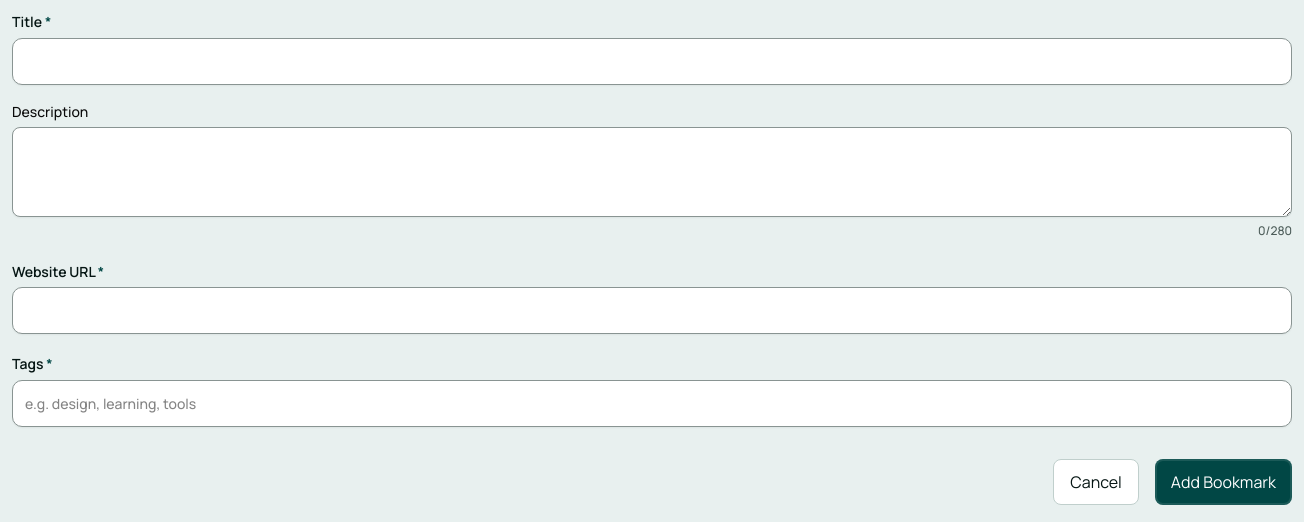
Test: BookmarkForm › formats the tags field by inserting a comma when pressing space
The width and height of the screenshot is (1304, 522).
Type "design " into the field labelled "Tags *".
click(652, 403); type("design ")  # box [12,380,1292,427]
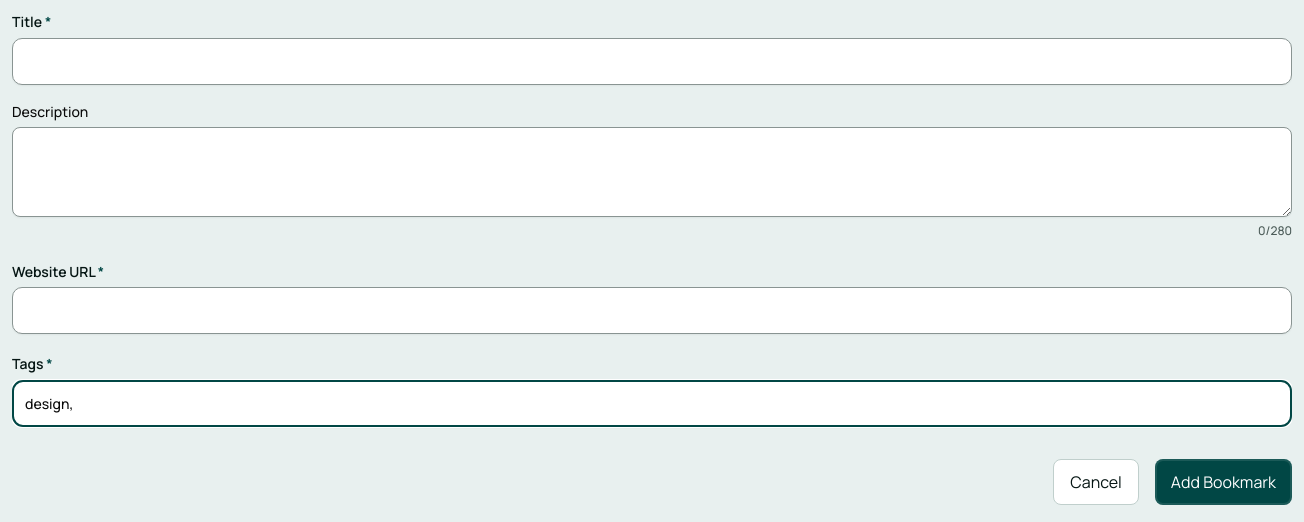
Check: the field labelled "Tags *" holds "design, ", box [12,380,1292,427]
